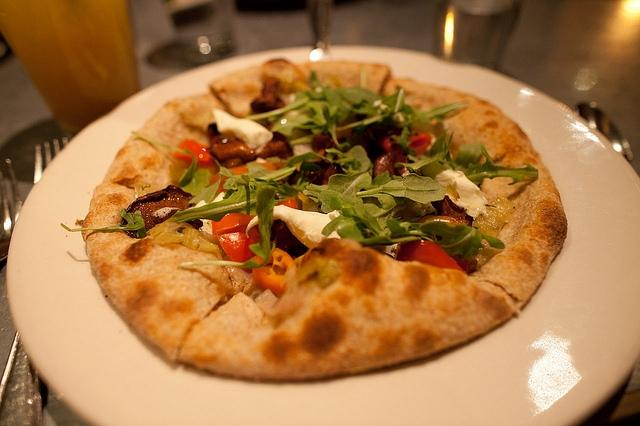tomato: (394, 241, 466, 274), (217, 225, 262, 273), (209, 162, 277, 193), (252, 248, 296, 294), (173, 140, 215, 174), (212, 213, 256, 235), (409, 132, 432, 154), (278, 199, 296, 209)
